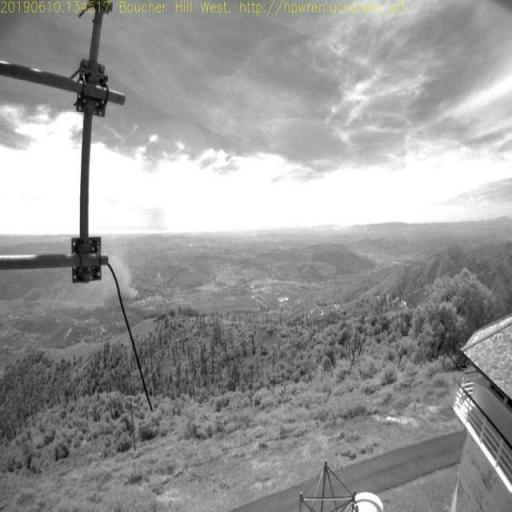smoke: (107, 252, 140, 306)
